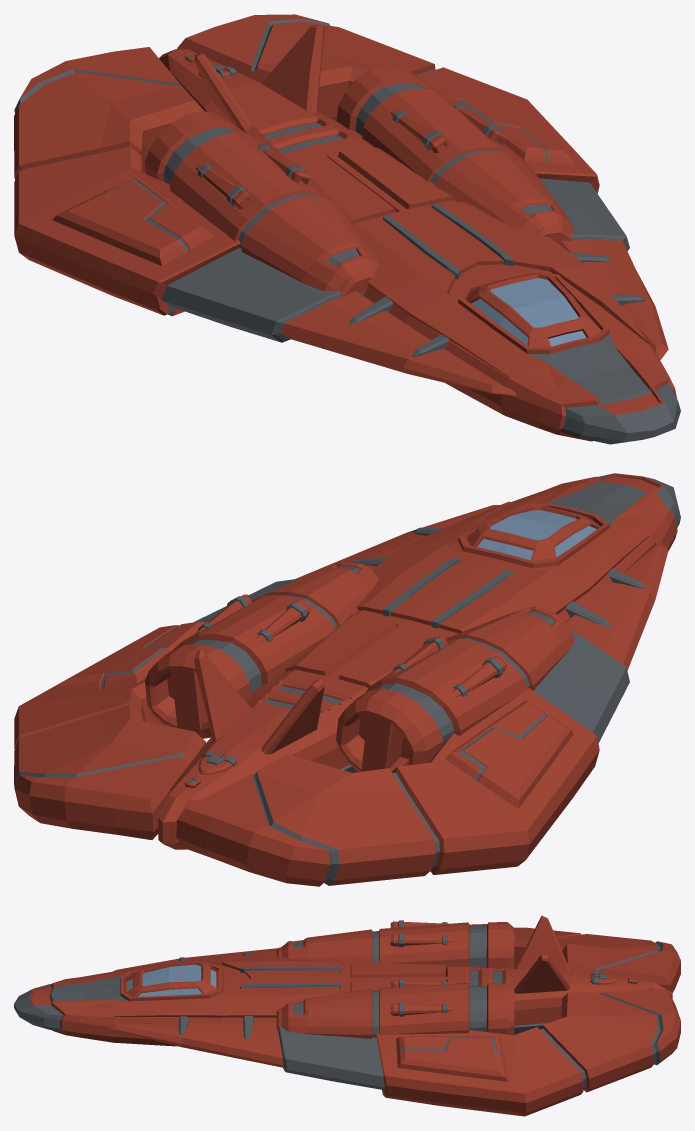
Rendered from Fighter_02_Red.fbx.
The picture shows the model from 3 angles, top to bottom: view 1: azimuth 30°, elevation 25°; view 2: azimuth 150°, elevation 25°; view 3: azimuth 270°, elevation 25°; orthographic projection. The views are drawn at different scales.
Visible parts, largest first — view 1: Fighter_02_Red; view 2: Fighter_02_Red; view 3: Fighter_02_Red.
Boxes of the visible parts, left/top/right/bottom form: Fighter_02_Red: left=14, top=14, right=680, bottom=444; Fighter_02_Red: left=14, top=473, right=680, bottom=886; Fighter_02_Red: left=14, top=915, right=680, bottom=1116.
Size of the model in its own units: 783 by 220 by 1310.
Materials: 3 (3 with a texture image).
